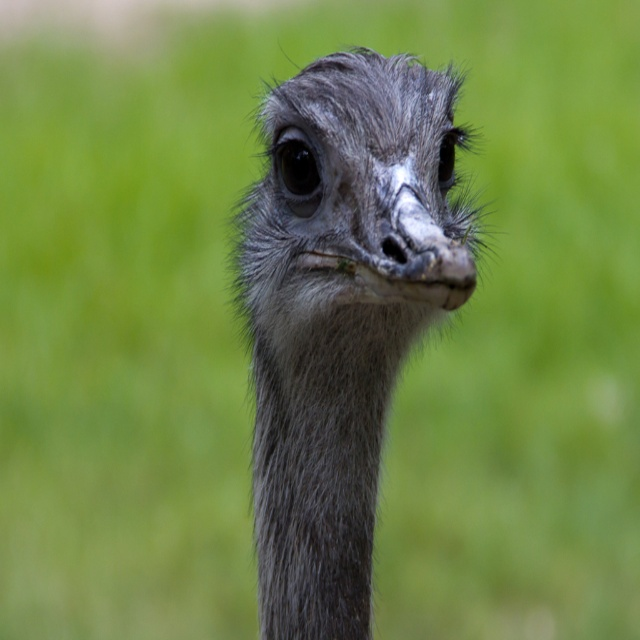Ostrich: (219, 38, 509, 640)
